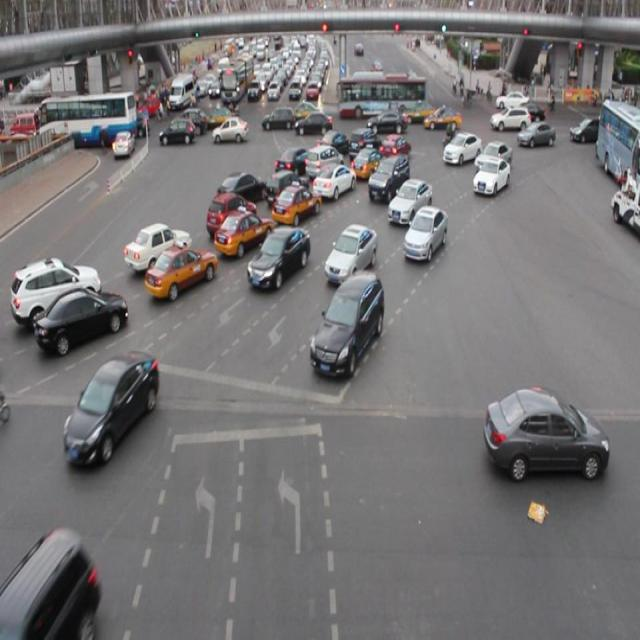car: (485, 385, 606, 478), (1, 527, 98, 640), (64, 352, 158, 468), (309, 271, 383, 376), (10, 256, 101, 326), (36, 288, 128, 352), (247, 225, 309, 293), (146, 245, 217, 298), (214, 205, 274, 258), (124, 222, 190, 270), (324, 223, 376, 283), (402, 206, 447, 261), (206, 192, 258, 238), (387, 177, 431, 227), (272, 184, 321, 226), (367, 155, 408, 203), (265, 170, 310, 213), (217, 172, 267, 205), (311, 163, 355, 200), (472, 156, 508, 194), (442, 132, 481, 165), (274, 146, 314, 178), (350, 143, 386, 178), (474, 140, 512, 172), (517, 120, 554, 151), (377, 134, 411, 167), (348, 129, 381, 163), (316, 130, 348, 159)
truck: (306, 144, 344, 178)
